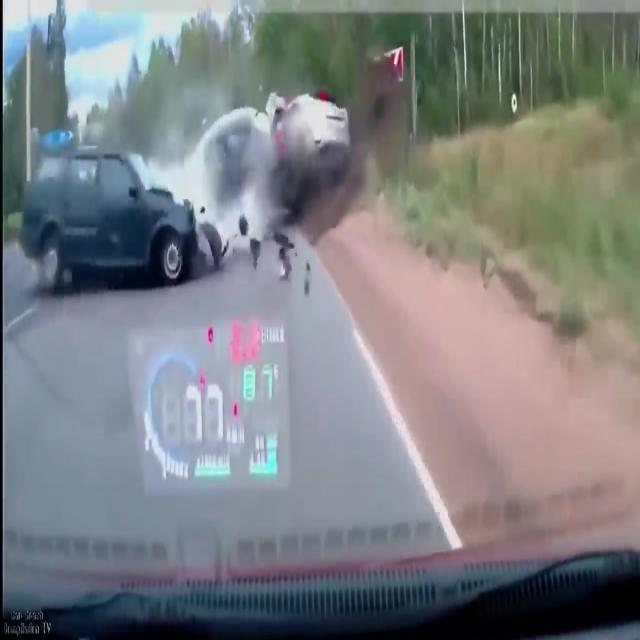accident: (16, 120, 221, 306), (184, 97, 380, 227)
